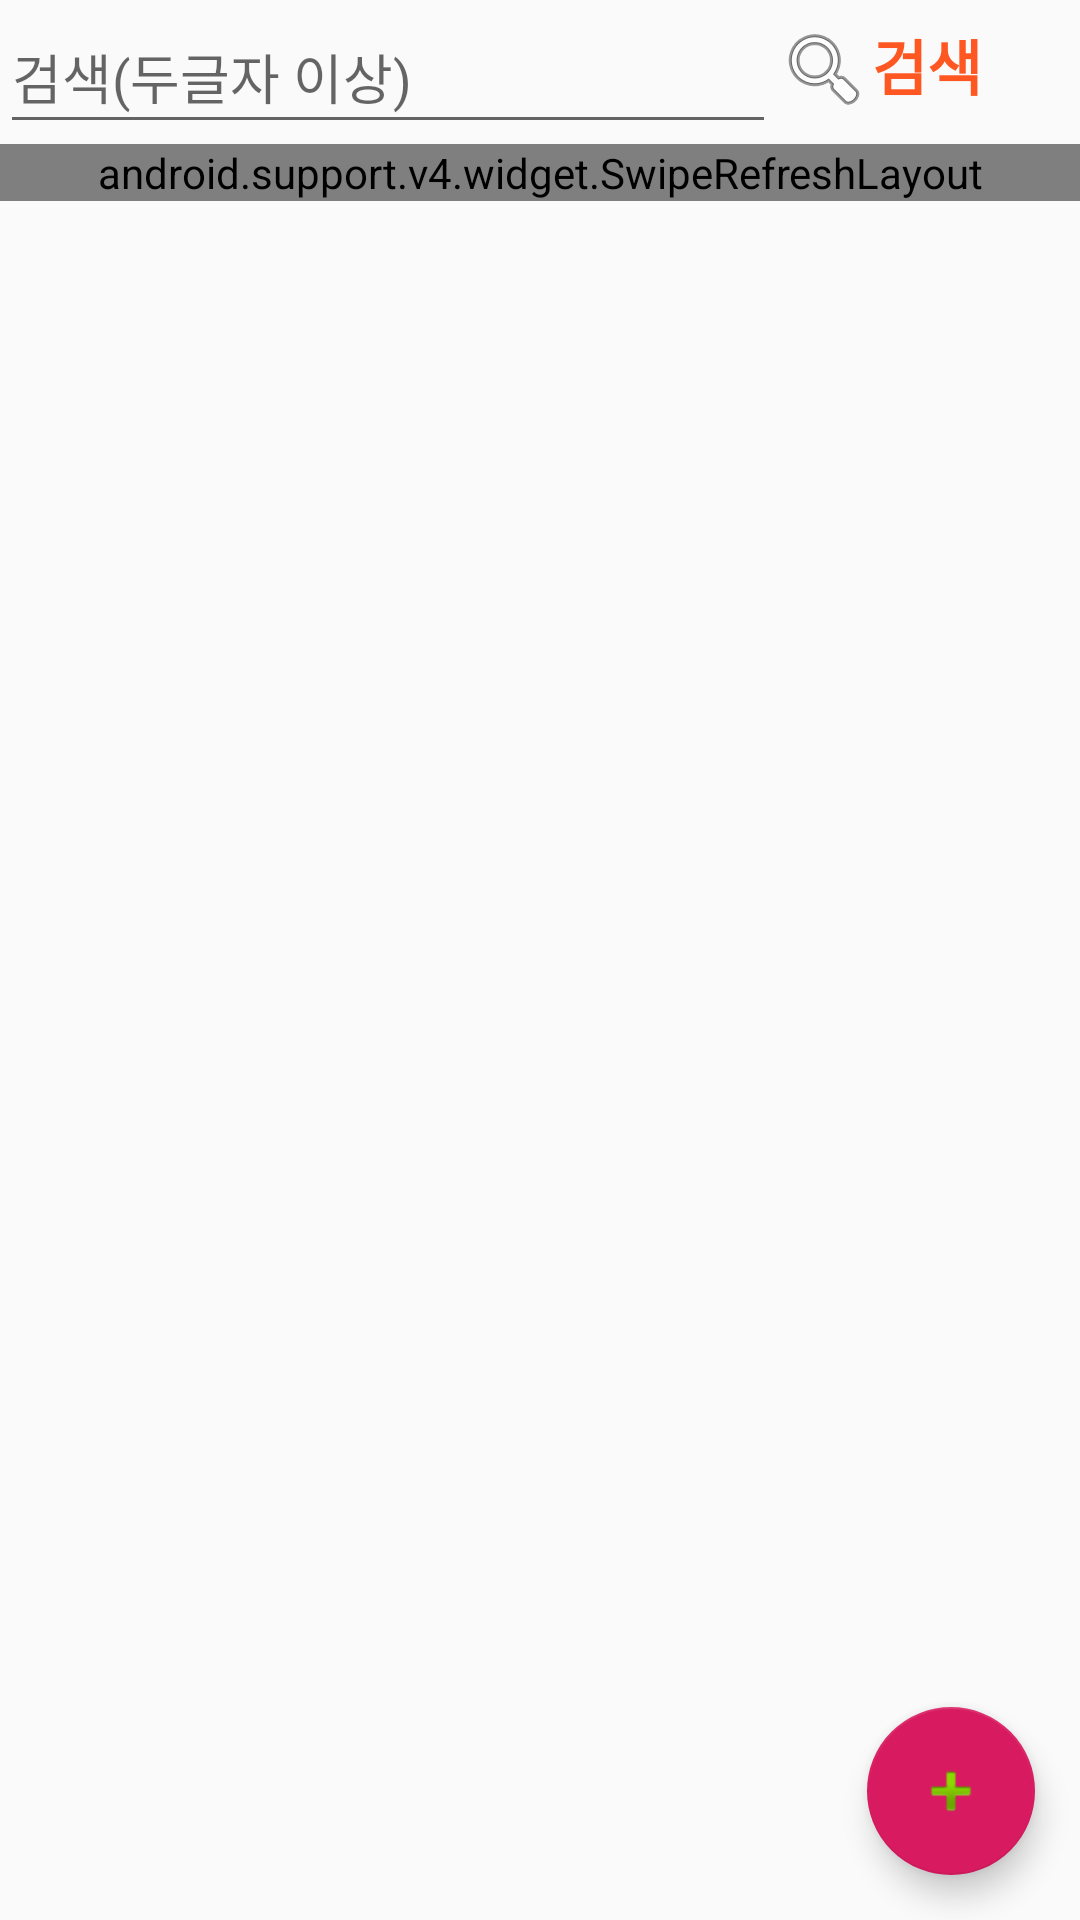

Locate icon controls on the screen. Image size 1080 x 1920, boxes as region(x1, y1, x2, y2).
add: region(867, 1707, 1035, 1875)
